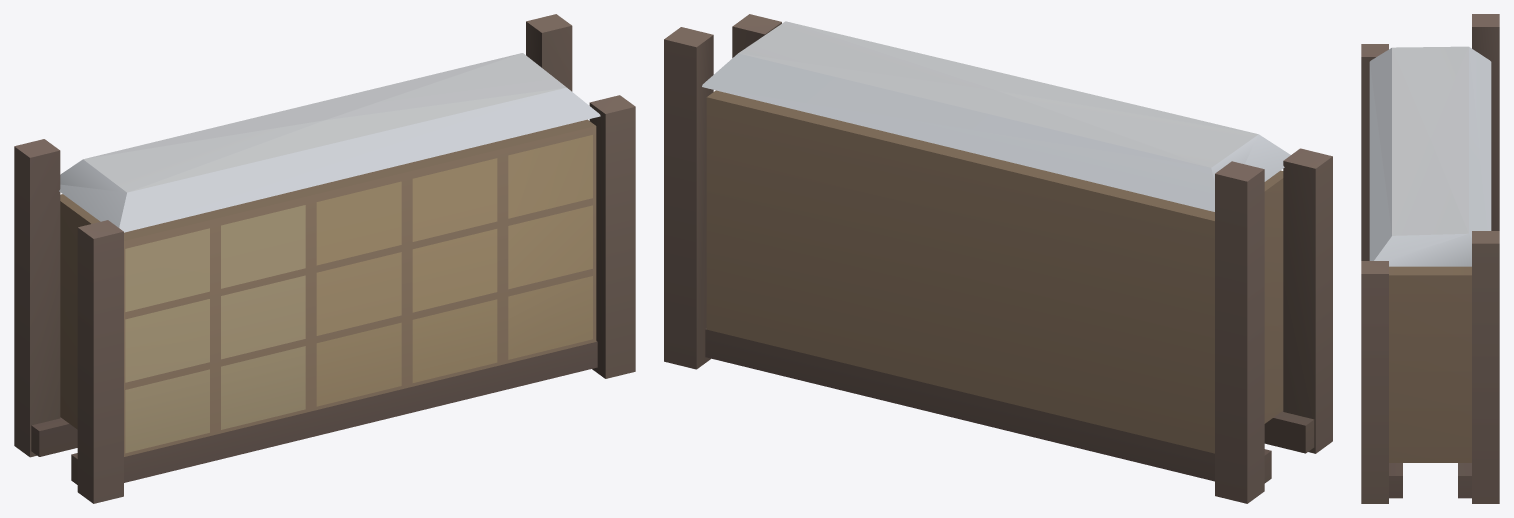
Rendered from cordwood.lod1.glb.
3 renders of one model, left to right at view 1: azimuth 30°, elevation 25°; view 2: azimuth 150°, elevation 25°; view 3: azimuth 270°, elevation 25°, orthographic. The views are drawn at different scales.
Bounding box in the file's own units: 1.97 × 1.04 × 0.5.
